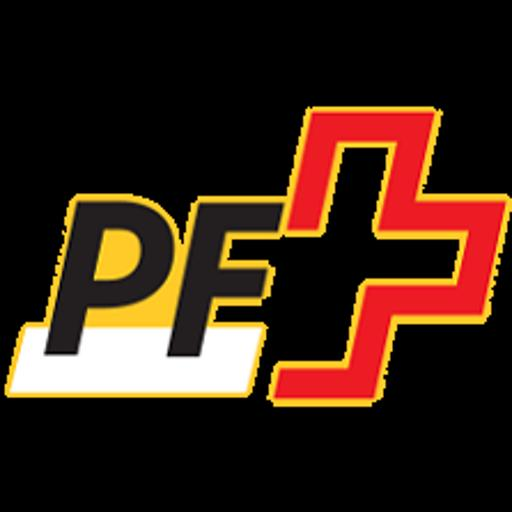PostFinance: (0, 95, 512, 416)
